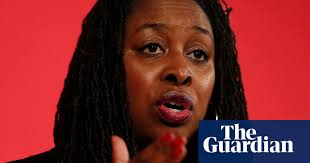black_female: (86, 1, 252, 142)
